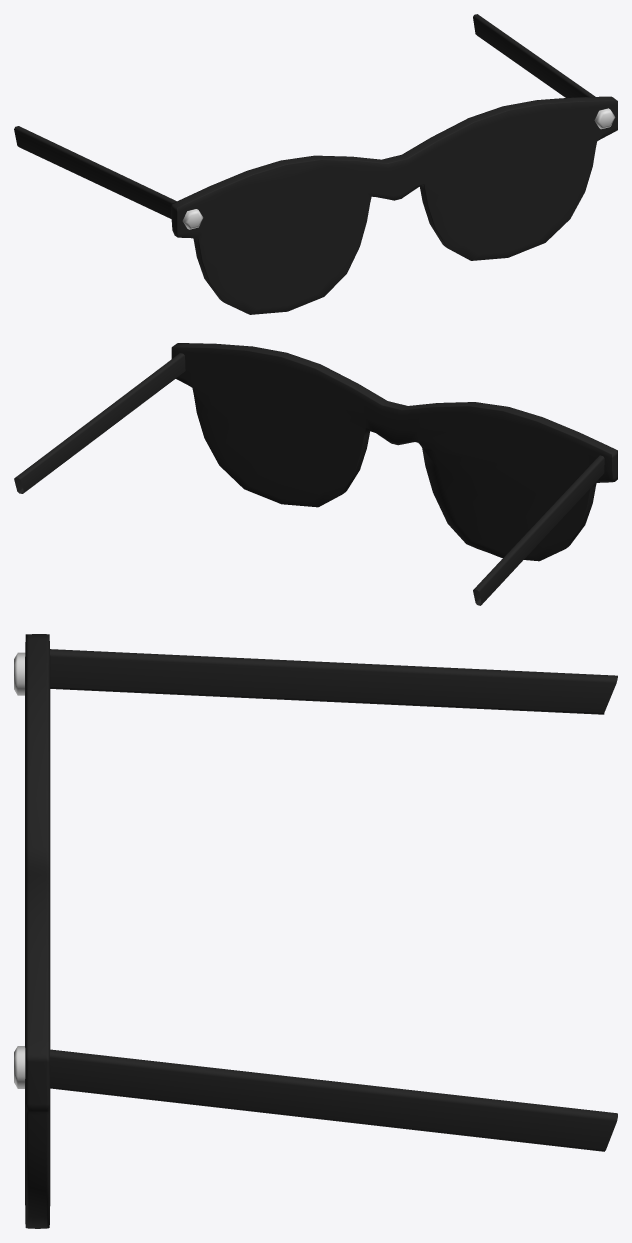
Rendered from Glasses_016.glb.
3 views of the same model, one above another, from view 1: azimuth 30°, elevation 25°; view 2: azimuth 150°, elevation 25°; view 3: azimuth 270°, elevation 25° (orthographic). The views are drawn at different scales.
Visible parts, largest first — view 1: Glasses_016; view 2: Glasses_016; view 3: Glasses_016.
Part boxes in pixels (left/top/right/bottom): Glasses_016: left=14, top=14, right=617, bottom=314; Glasses_016: left=14, top=343, right=617, bottom=605; Glasses_016: left=14, top=634, right=617, bottom=1228.
Size of the model in its own units: 0.4107 by 0.1246 by 0.2361.
Materials: 1 (1 with a texture image).
